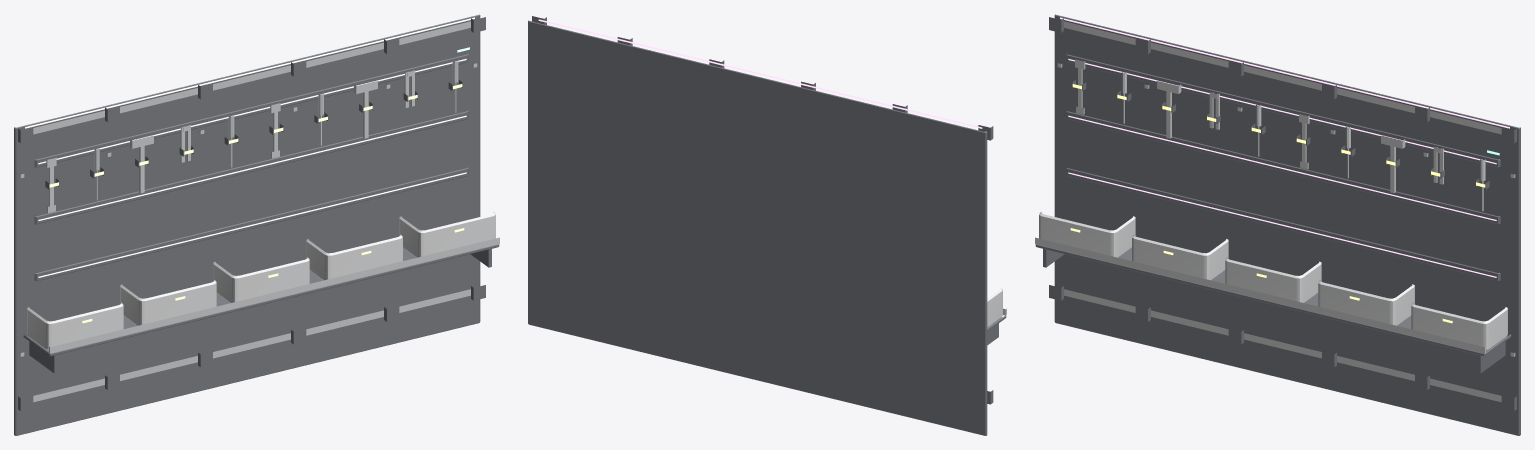
The model's file is iter_04.glb.
3 renders of one model, left to right at view 1: azimuth 30°, elevation 25°; view 2: azimuth 150°, elevation 25°; view 3: azimuth 330°, elevation 25°, orthographic.
Visible parts, largest first — view 1: Wall_Plate, Bins, Mag_Strips, Wall_Rail, Shelf_Lips, Tools, Hook_Clamps, Mag_Strip_Lights, Shelves, Accent_Strip, Shelf_Brackets, Tool_Latch_Pins; view 2: Wall_Plate, Accent_Strip, Hook_Clamps, Bins; view 3: Wall_Plate, Bins, Mag_Strips, Wall_Rail, Shelf_Lips, Tools, Hook_Clamps, Mag_Strip_Lights, Shelves, Accent_Strip, Shelf_Brackets, Tool_Latch_Pins.
Part boxes in pixels (left/top/right/bottom): Wall_Plate: left=14, top=14, right=480, bottom=435; Bins: left=27, top=212, right=495, bottom=350; Mag_Strips: left=34, top=54, right=468, bottom=280; Wall_Rail: left=33, top=21, right=470, bottom=402; Shelf_Lips: left=49, top=237, right=499, bottom=353; Tools: left=46, top=60, right=458, bottom=213; Hook_Clamps: left=18, top=17, right=485, bottom=411; Mag_Strip_Lights: left=38, top=58, right=466, bottom=277; Shelves: left=23, top=244, right=499, bottom=356; Accent_Strip: left=25, top=17, right=474, bottom=128; Shelf_Brackets: left=29, top=249, right=491, bottom=373; Tool_Latch_Pins: left=45, top=80, right=463, bottom=189; Wall_Plate: left=528, top=20, right=987, bottom=435; Accent_Strip: left=538, top=19, right=982, bottom=128; Hook_Clamps: left=532, top=16, right=993, bottom=404; Bins: left=987, top=288, right=1002, bottom=327; Wall_Plate: left=1054, top=14, right=1520, bottom=435; Bins: left=1039, top=212, right=1507, bottom=350; Mag_Strips: left=1066, top=54, right=1500, bottom=280; Wall_Rail: left=1064, top=21, right=1501, bottom=402; Shelf_Lips: left=1035, top=237, right=1485, bottom=353; Tools: left=1075, top=59, right=1485, bottom=211; Hook_Clamps: left=1049, top=17, right=1516, bottom=411; Mag_Strip_Lights: left=1068, top=58, right=1496, bottom=277; Shelves: left=1035, top=244, right=1511, bottom=356; Accent_Strip: left=1060, top=17, right=1509, bottom=128; Shelf_Brackets: left=1043, top=249, right=1505, bottom=373; Tool_Latch_Pins: left=1071, top=80, right=1489, bottom=189.
Size of the model in its own units: 3 by 1.91 by 0.32.
